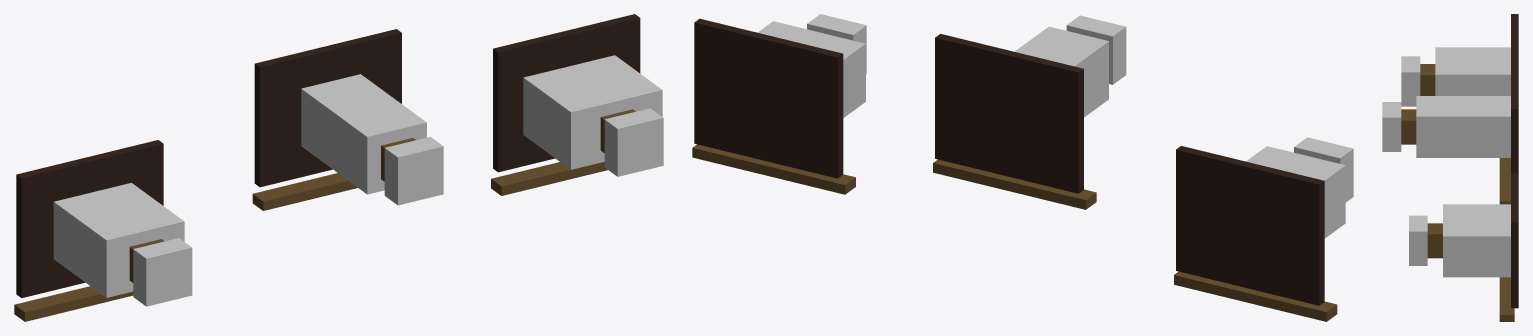
The model's file is SM_BSW_CaseGoods_Perfume_A.obj.
3 renders of one model, left to right at view 1: azimuth 30°, elevation 25°; view 2: azimuth 150°, elevation 25°; view 3: azimuth 270°, elevation 25°, orthographic. The views are drawn at different scales.
Parts seen in each view (by area): view 1: SM_BSW_CaseGoods_Perfume_A; view 2: SM_BSW_CaseGoods_Perfume_A; view 3: SM_BSW_CaseGoods_Perfume_A.
Part boxes in pixels (x1=…): SM_BSW_CaseGoods_Perfume_A: x1=14, y1=14, x2=663, y2=321; SM_BSW_CaseGoods_Perfume_A: x1=692, y1=14, x2=1353, y2=321; SM_BSW_CaseGoods_Perfume_A: x1=1382, y1=14, x2=1518, y2=321.
Bounding box in the file's own units: 137 × 39.5 × 36.
